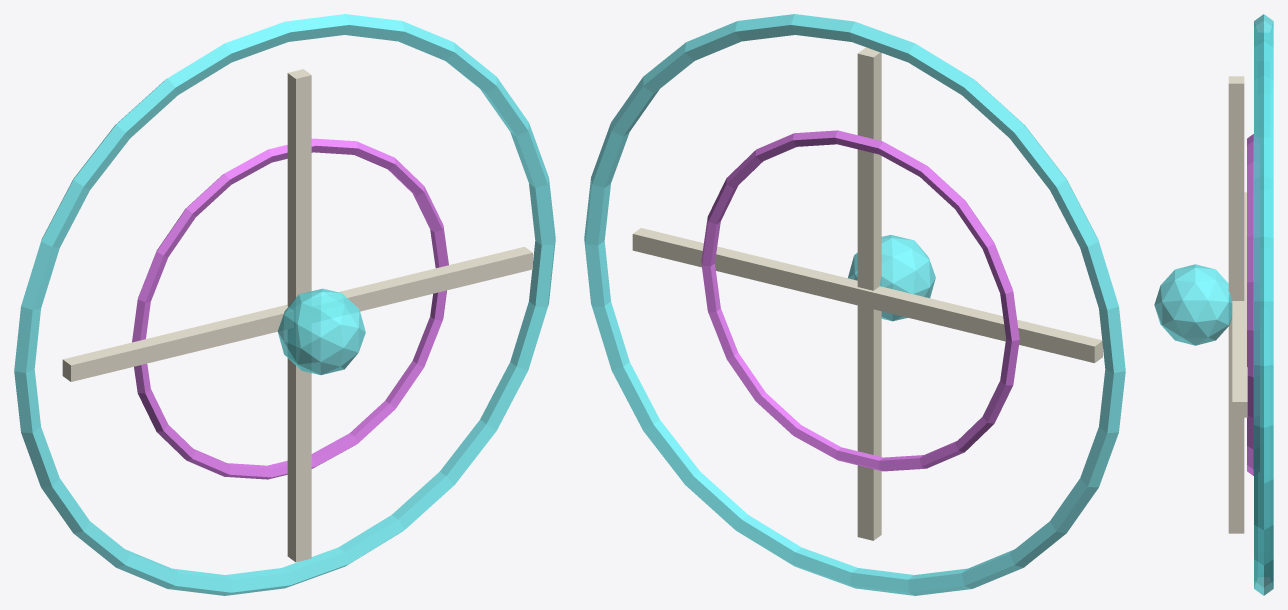
Rendered from 06_combat_flow_anchor.glb.
3 renders of one model, left to right at view 1: azimuth 30°, elevation 25°; view 2: azimuth 150°, elevation 25°; view 3: azimuth 270°, elevation 25°, orthographic. The views are drawn at different scales.
Visible parts, largest first — view 1: flow_outer_ring, flow_inner_ring, flow_lane_cross, flow_lane_forward, perfect_flow_core; view 2: flow_outer_ring, flow_inner_ring, flow_lane_forward, flow_lane_cross, perfect_flow_core; view 3: flow_outer_ring, flow_lane_cross, perfect_flow_core, flow_inner_ring, flow_lane_forward.
Boxes of the visible parts, left/top/right/bottom form: flow_outer_ring: left=14, top=14, right=555, bottom=595; flow_inner_ring: left=132, top=138, right=448, bottom=479; flow_lane_cross: left=287, top=69, right=311, bottom=562; flow_lane_forward: left=62, top=246, right=532, bottom=381; perfect_flow_core: left=277, top=288, right=365, bottom=374; flow_outer_ring: left=584, top=14, right=1125, bottom=595; flow_inner_ring: left=701, top=130, right=1019, bottom=471; flow_lane_forward: left=632, top=228, right=1102, bottom=363; flow_lane_cross: left=857, top=47, right=881, bottom=540; perfect_flow_core: left=848, top=235, right=935, bottom=321; flow_outer_ring: left=1254, top=14, right=1273, bottom=595; flow_lane_cross: left=1228, top=76, right=1244, bottom=533; perfect_flow_core: left=1154, top=264, right=1232, bottom=345; flow_inner_ring: left=1247, top=134, right=1259, bottom=475; flow_lane_forward: left=1232, top=192, right=1247, bottom=417.
Size of the model in its own units: 1.7 by 1.7 by 0.3485.
